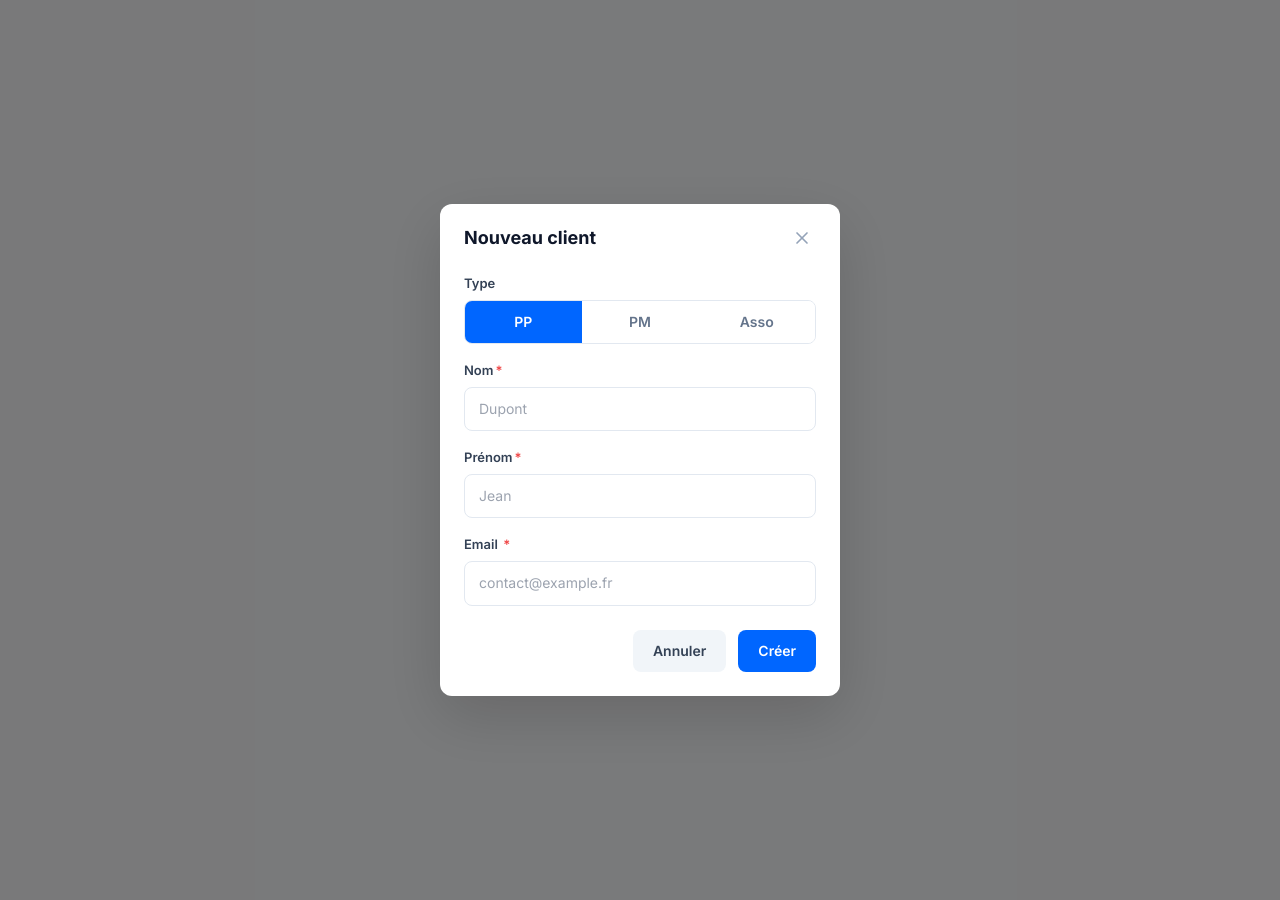
Scenario: ClientQuickCreate (B1 — prénom particulier) › une personne morale ne demande pas de prénom
The width and height of the screenshot is (1280, 900).
Click the button "PM" at (640, 322), box [582,301,698,343]
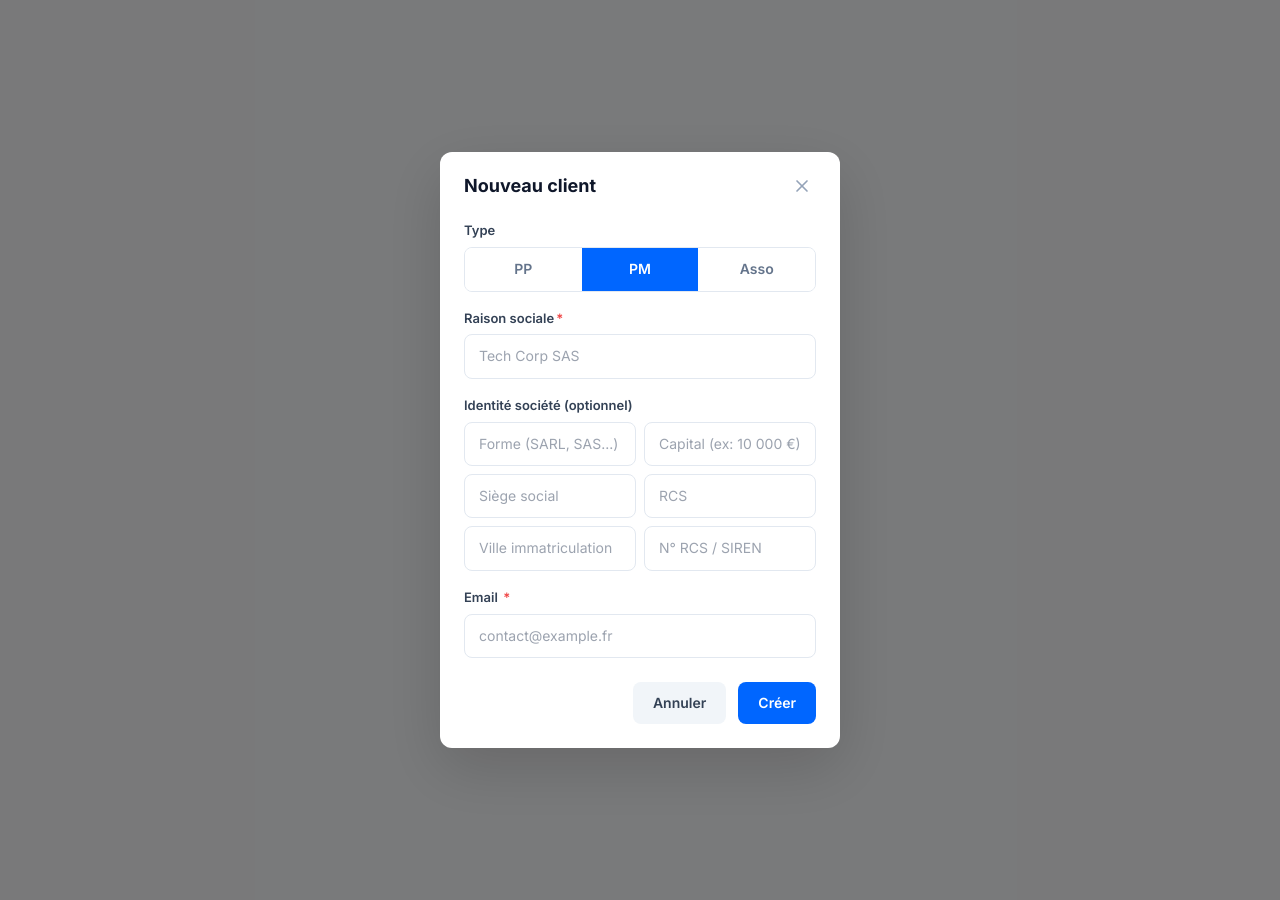
Expected: the field with placeholder "Jean" is gone
